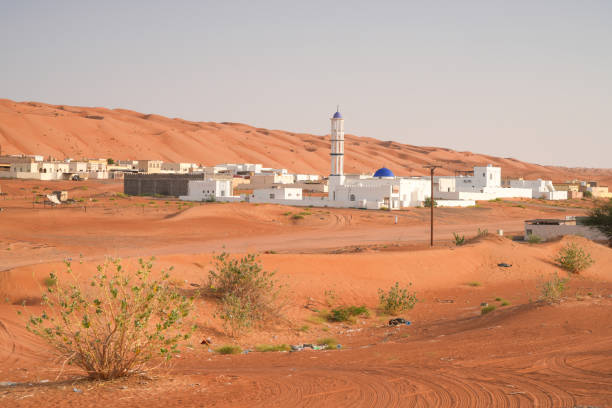vehicle_track: (209, 366, 575, 406), (0, 320, 15, 361)
